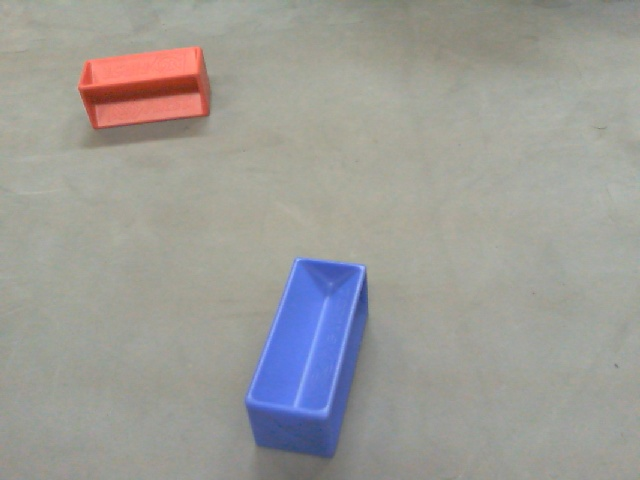BlueSample: (238, 256, 372, 457)
RedSample: (75, 45, 212, 134)
